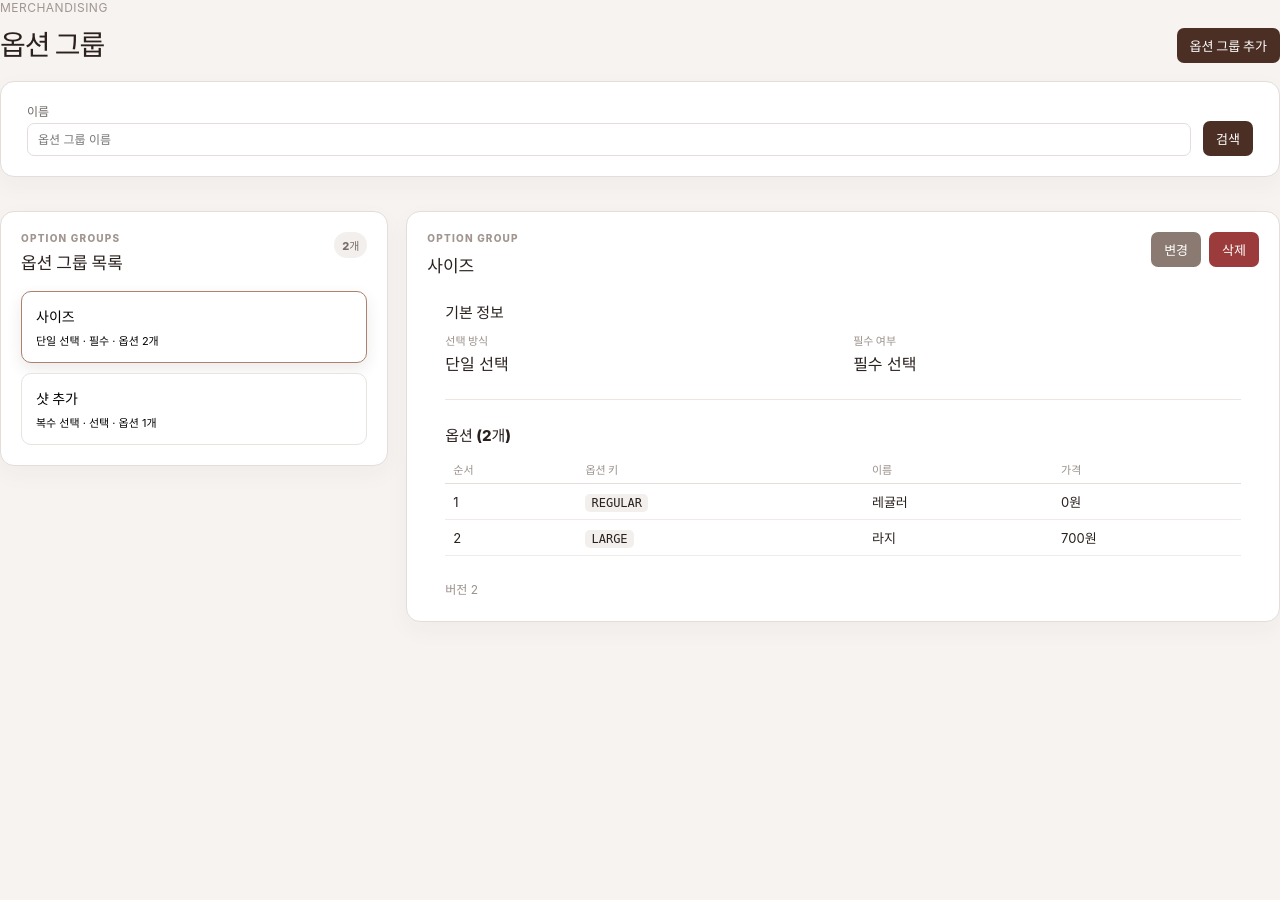
OptionGroupsPage › 저장하면 모달을 닫고 토스트로 알린다
Click the button "변경" at (1176, 250), box x1=1151 y1=232 x2=1201 y2=267
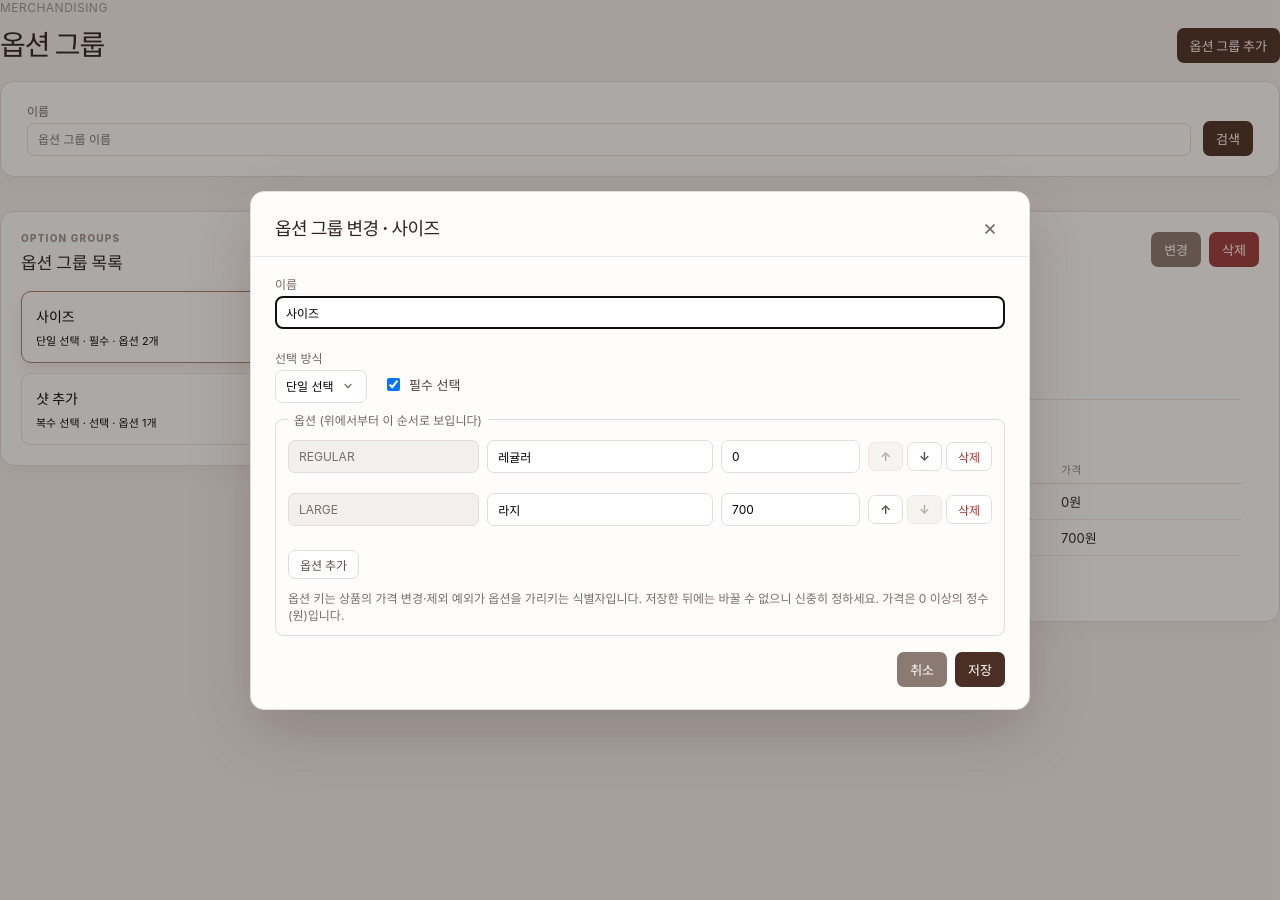
Type "크기" into the field labelled "이름" at (640, 312), box x1=275 y1=296 x2=1005 y2=328
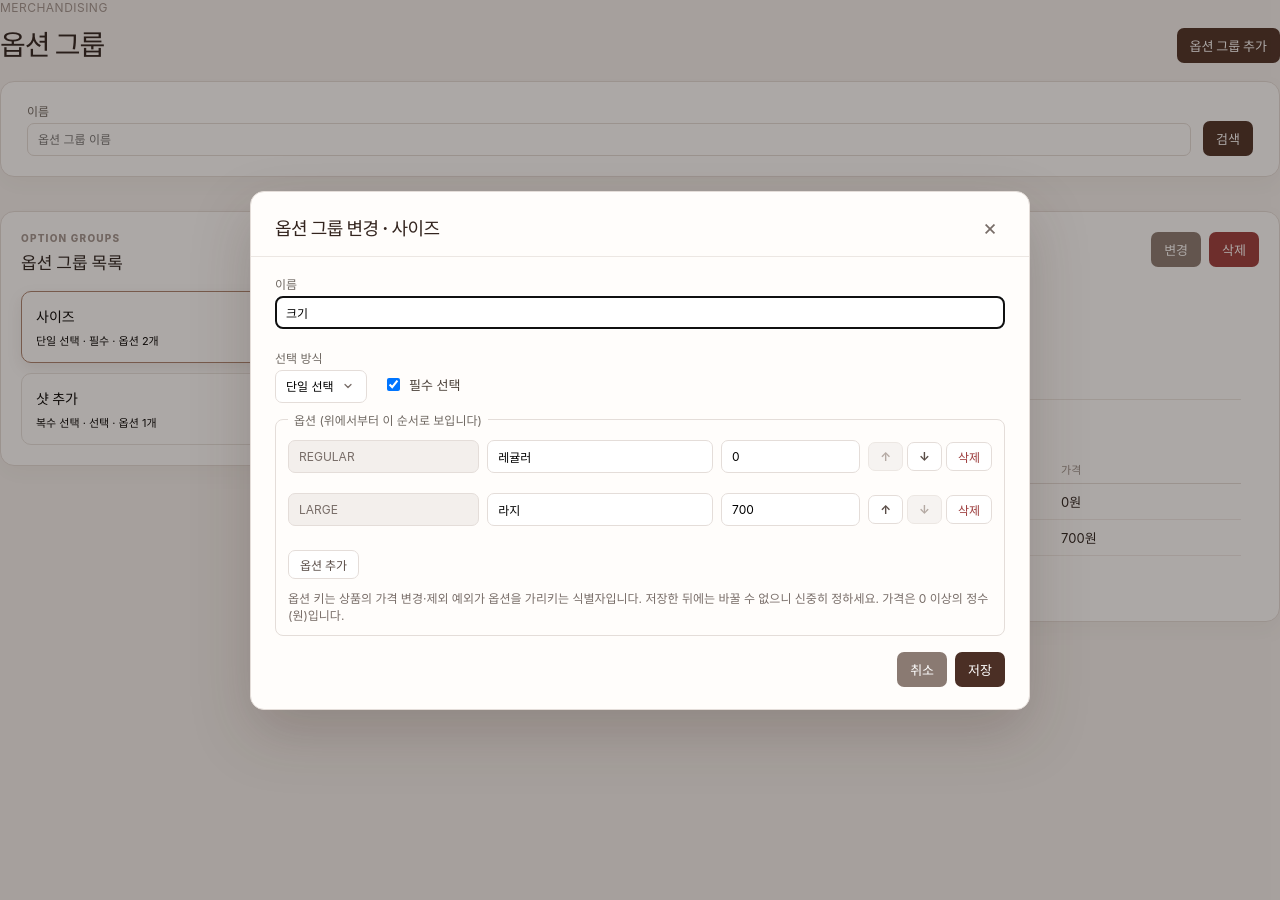
Click the button "저장" at (980, 669), box x1=955 y1=652 x2=1005 y2=686
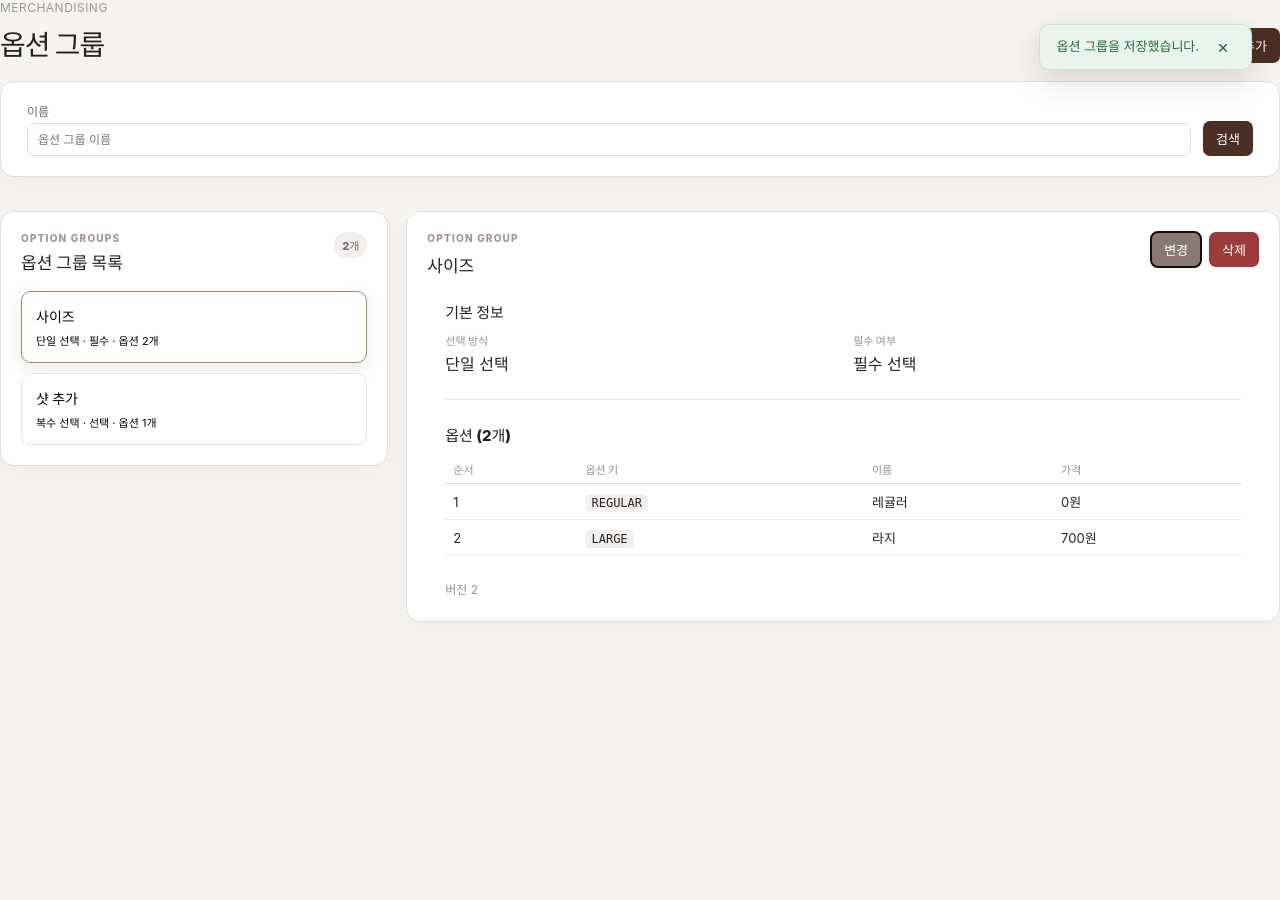
Expected: the text "옵션 그룹을 저장했습니다." is shown, x1=1056 y1=38 x2=1199 y2=54
Expected: the heading "옵션 그룹 변경 · 사이즈" is gone
